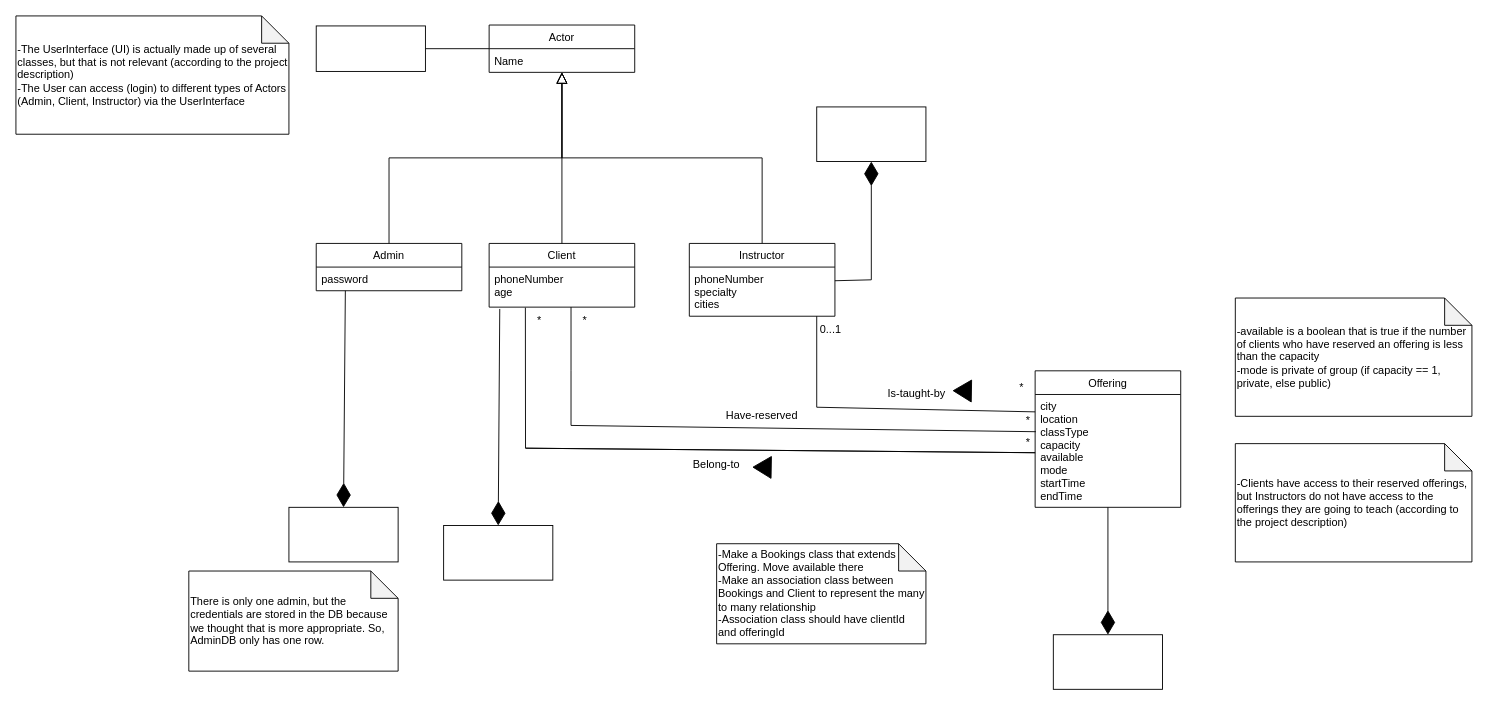
Some shapes in this 1488 by 705 pixel diagram are drawn without their labels. The centre of each missing label's shape, as x and y in pixels:
"AdminDB" goes at point 343,534.
"ClientsDB" goes at point 498,552.
"InstructorsDB" goes at point 871,134.
"OfferingsDB" goes at point 1107,661.
"UserInterface" goes at point 370,48.
